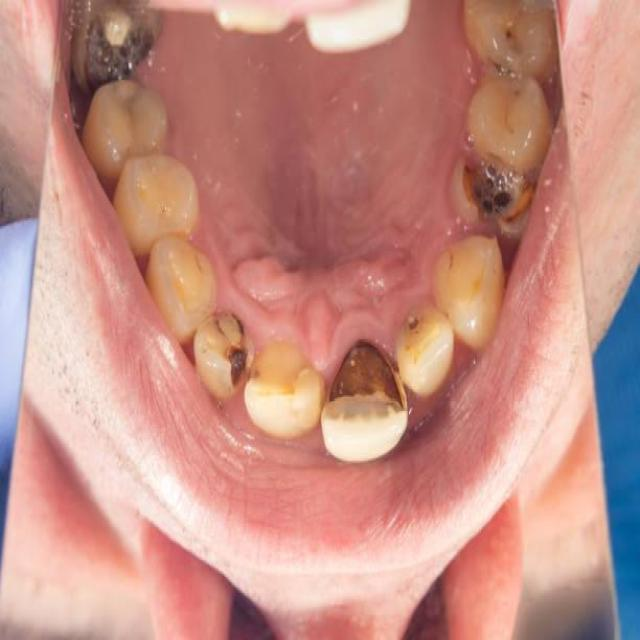caries: (443, 144, 538, 238), (327, 337, 404, 450), (76, 2, 161, 88), (196, 307, 253, 392), (486, 18, 529, 79), (401, 298, 433, 354)
